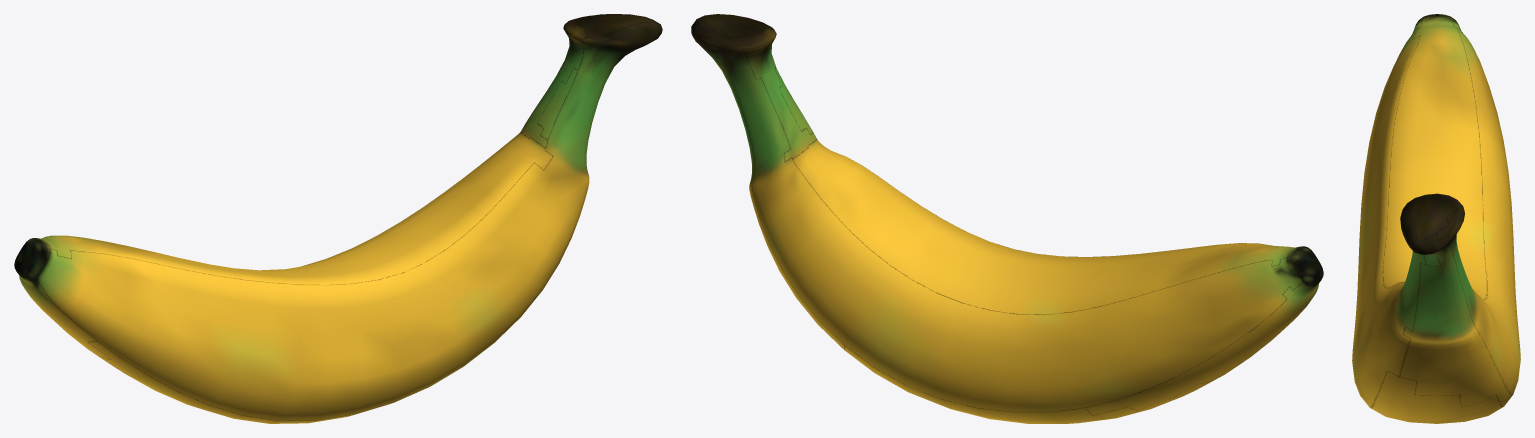
File: banana.fbx
3 views of the same model, side by side, from view 1: azimuth 30°, elevation 25°; view 2: azimuth 150°, elevation 25°; view 3: azimuth 270°, elevation 25° (orthographic).
Parts seen in each view (by area): view 1: Banana; view 2: Banana; view 3: Banana.
Part boxes in pixels (bbox=[...]): Banana: bbox=[14, 14, 662, 423]; Banana: bbox=[691, 14, 1323, 423]; Banana: bbox=[1352, 14, 1520, 423].
Size of the model in its own units: 1094 by 526 by 249.
Materials: 1 (1 with a texture image).
